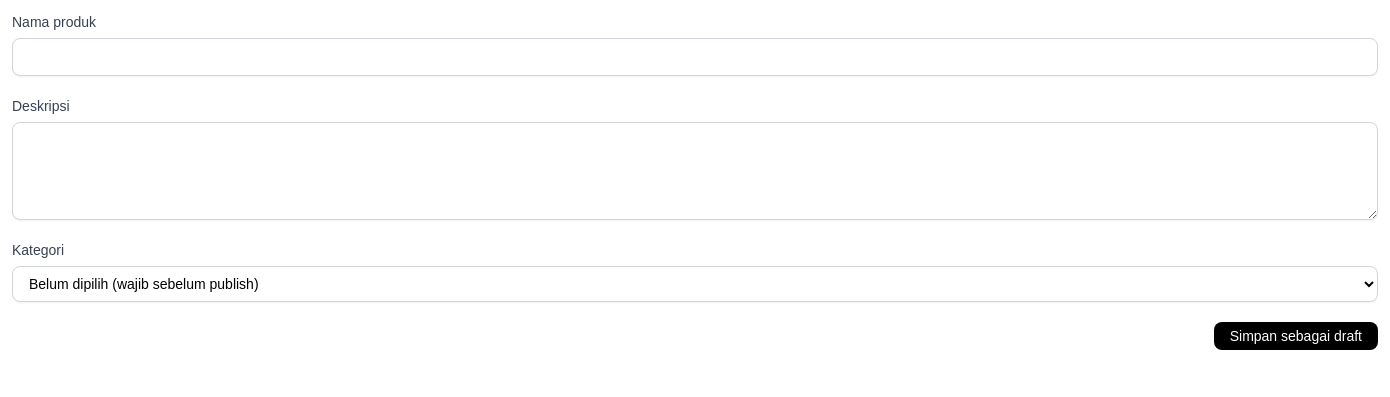
Scenario: ProductCreateForm › Penanganan Error Server (applyApiErrorToForm) › memetakan error bisnis CATEGORY_NOT_FOUND ke field kategori tanpa menampilkan toast
Type "Produk Test" into the field labelled "Nama produk" at (695, 57), box [12,38,1378,76]
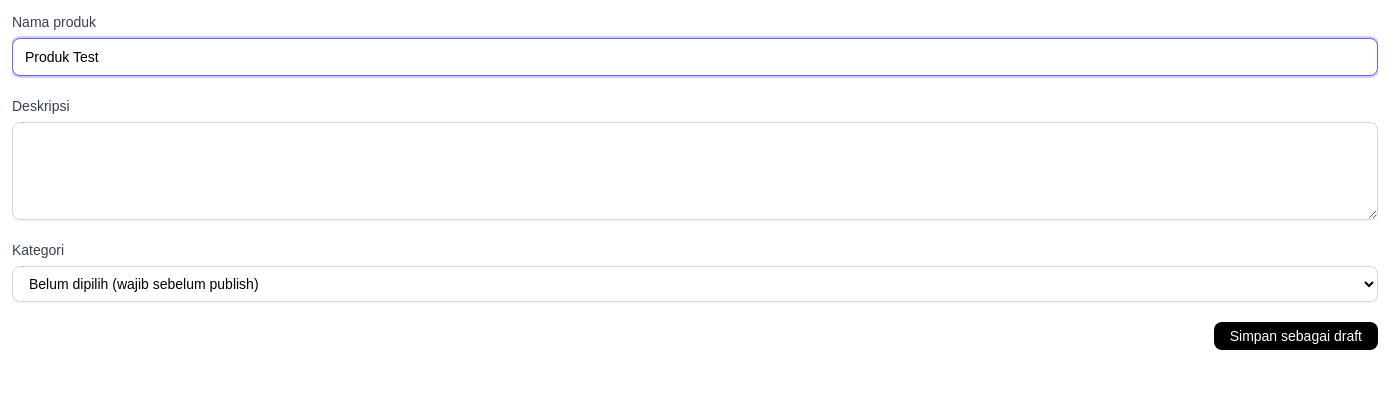
Select "Elektronik" in the dropdown labelled "Kategori" at (695, 284), box [12,266,1378,302]
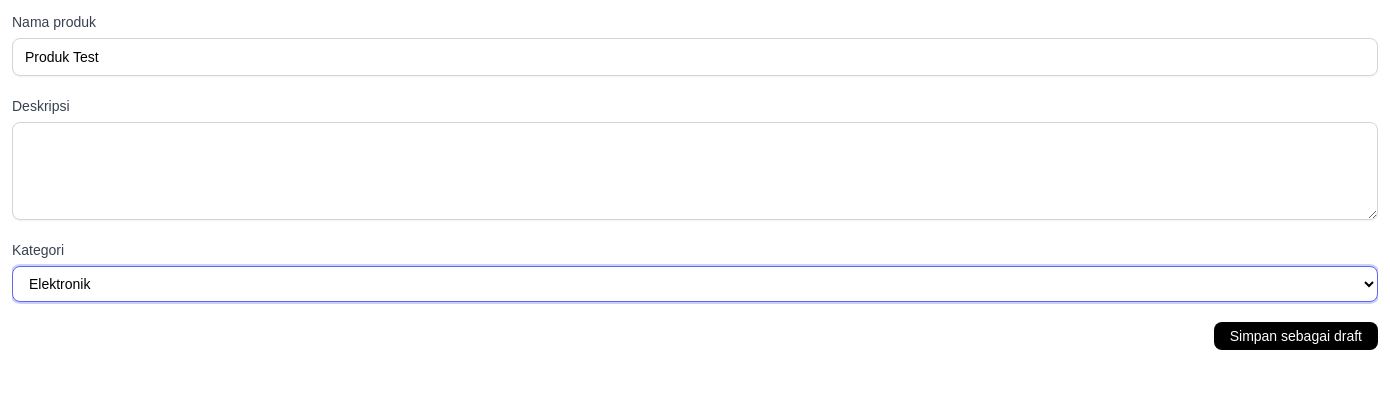
Click the button "Simpan sebagai draft" at (1296, 336), box [1214,322,1378,350]
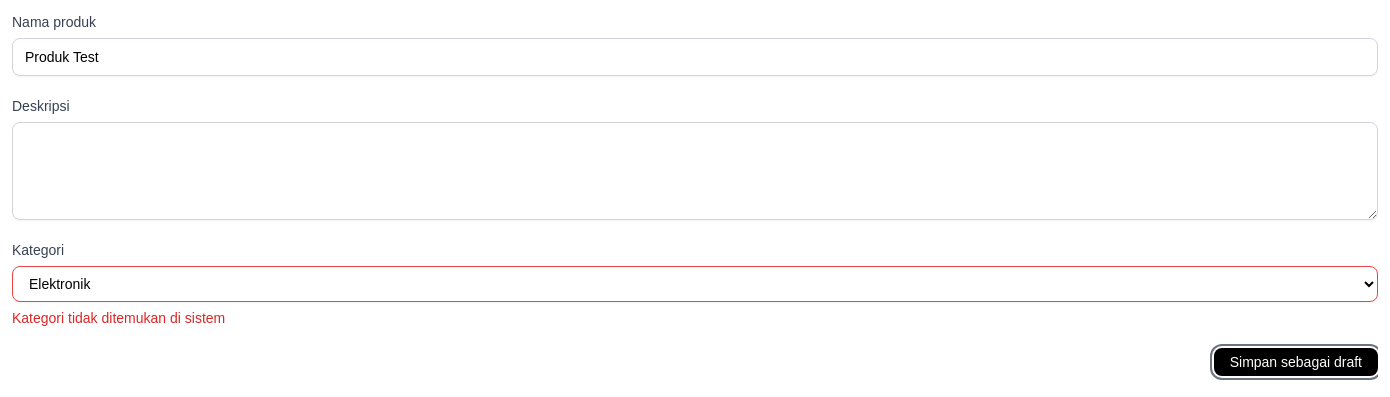
Check: the text "Kategori tidak ditemukan di sistem" is shown, box [12,310,225,326]
